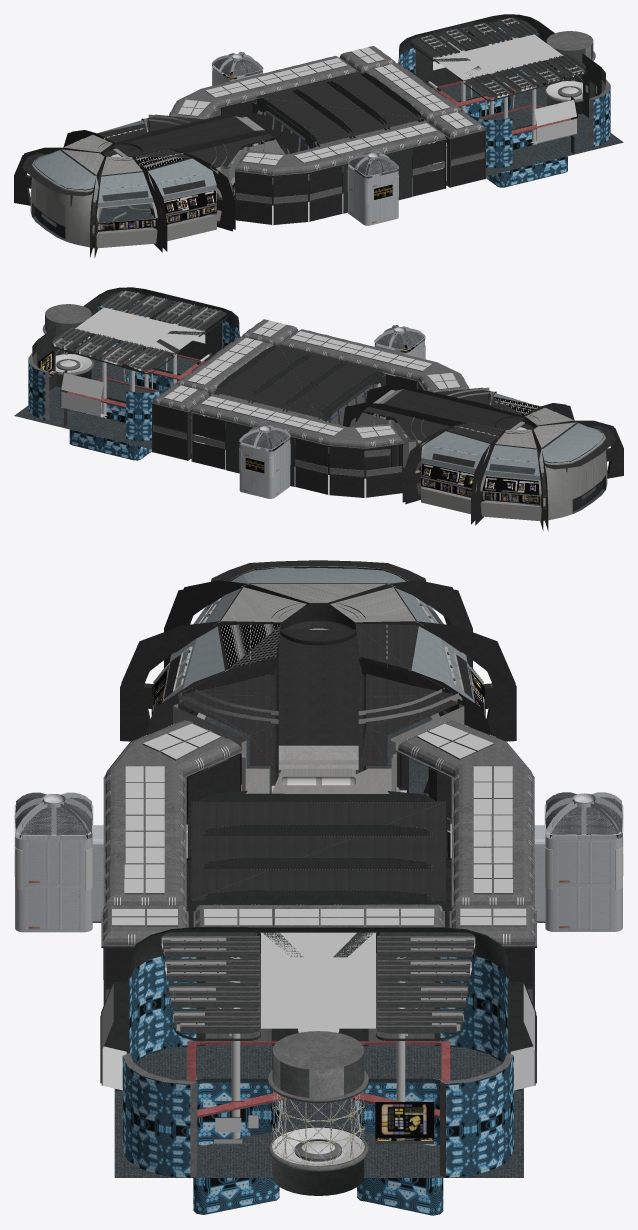
The model's file is MonitorBridge.fbx.
3 renders of one model, top to bottom at view 1: azimuth 30°, elevation 25°; view 2: azimuth 150°, elevation 25°; view 3: azimuth 270°, elevation 25°, orthographic. The views are drawn at different scales.
Parts seen in each view (by area): view 1: Cube.061, Plane, Cube, Cube.021, Cube.008, Plane.006, Cube.059, Plane.009, Cube.026, Cube.031, Cube.067, Plane.001 (+18 smaller); view 2: Cube.061, Plane, Cube, Plane.006, Cube.008, Cube.021, Plane.009, Cube.059, Cube.026, Cube.031, Cube.064, Plane.001 (+19 smaller); view 3: Cube.061, Plane, Cube, Cube.008, Cube.021, Cube.068, Cube.031, Cube.067, Cube.064, Plane.006, Cube.026, Plane.009 (+20 smaller).
Boxes of the visible parts, box(x1,y1,x2,y2) form: Cube.061: box(14, 46, 486, 257); Plane: box(32, 71, 423, 248); Cube: box(399, 14, 605, 153); Cube.021: box(32, 76, 623, 240); Cube.008: box(398, 27, 610, 187); Plane.006: box(32, 120, 216, 207); Cube.059: box(234, 68, 484, 196); Plane.009: box(97, 27, 596, 231); Cube.026: box(411, 19, 585, 97); Cube.031: box(434, 34, 578, 93); Cube.067: box(347, 160, 398, 225); Plane.001: box(30, 118, 289, 248); Cube.061: box(151, 319, 623, 530); Plane: box(215, 344, 605, 521); Cube: box(32, 287, 239, 426); Plane.006: box(421, 393, 605, 480); Cube.008: box(28, 300, 239, 460); Cube.021: box(14, 349, 605, 513); Plane.009: box(38, 300, 540, 504); Cube.059: box(153, 342, 385, 470); Cube.026: box(52, 292, 226, 370); Cube.031: box(60, 307, 203, 366); Cube.064: box(239, 434, 290, 498); Plane.001: box(354, 391, 607, 521); Cube.061: box(101, 560, 536, 1032); Plane: box(153, 569, 492, 900); Cube: box(100, 927, 536, 1195); Cube.008: box(122, 955, 513, 1215); Cube.021: box(114, 716, 523, 1177); Cube.068: box(187, 790, 447, 927); Cube.031: box(260, 932, 376, 1153); Cube.067: box(14, 804, 103, 932); Cube.064: box(534, 804, 623, 931); Plane.006: box(162, 566, 474, 702); Cube.026: box(162, 932, 474, 1033); Plane.009: box(102, 661, 534, 1143).
Size of the model in its own units: 10473 by 1841 by 5083.
